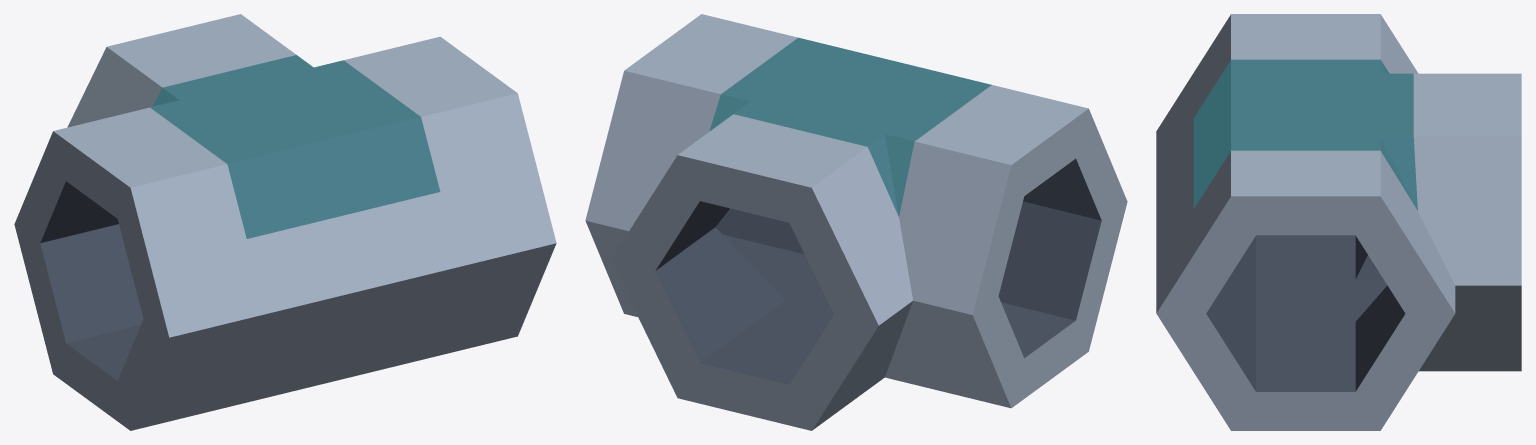
File: pipe_split.glb
3 views of the same model, side by side, from view 1: azimuth 30°, elevation 25°; view 2: azimuth 150°, elevation 25°; view 3: azimuth 270°, elevation 25° (orthographic). The views are drawn at different scales.
Visible parts, largest first — view 1: pipe_split; view 2: pipe_split; view 3: pipe_split.
Part boxes in pixels (bbox=[...]): pipe_split: bbox=[14, 14, 556, 430]; pipe_split: bbox=[585, 14, 1127, 430]; pipe_split: bbox=[1156, 14, 1521, 430].
Size of the model in its own units: 1 by 0.6 by 0.8464.
